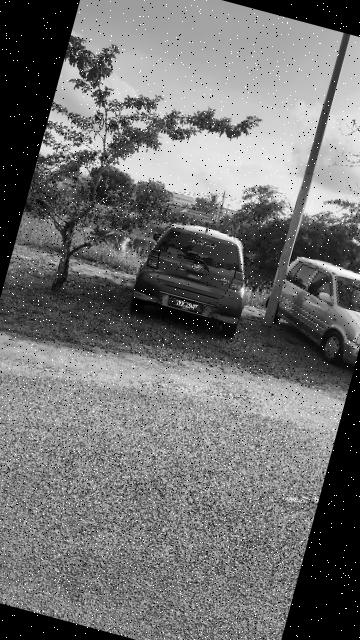License_Plate: (167, 295, 207, 316)
car: (125, 210, 264, 340), (266, 243, 360, 365)
